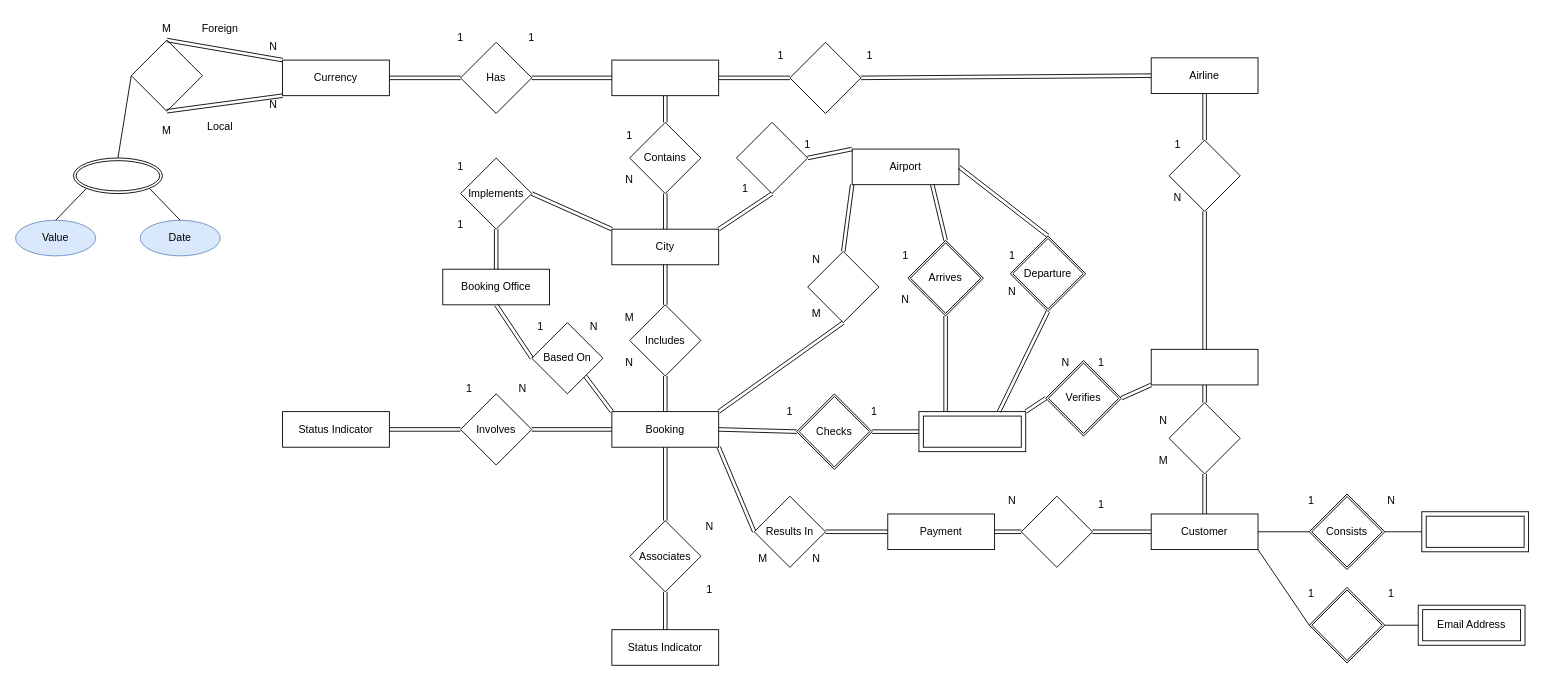
This 1544x681 diagram has some shape labels left out. Here are the shapes that lost their labels. From the top down, the box of each, then its label:
(130, 39, 202, 111): Exchange
(611, 59, 719, 96): Countries
(789, 41, 861, 113): Belongs
(73, 157, 162, 194): Rate
(736, 121, 808, 194): Houses
(1168, 139, 1240, 211): Creates
(807, 251, 879, 323): Provides
(1150, 348, 1258, 385): Flight
(918, 411, 1026, 452): Flight Availability
(1168, 402, 1240, 474): Holds
(1020, 495, 1092, 567): Performs
(1421, 511, 1529, 552): Phone Number
(1308, 586, 1385, 663): Registers
